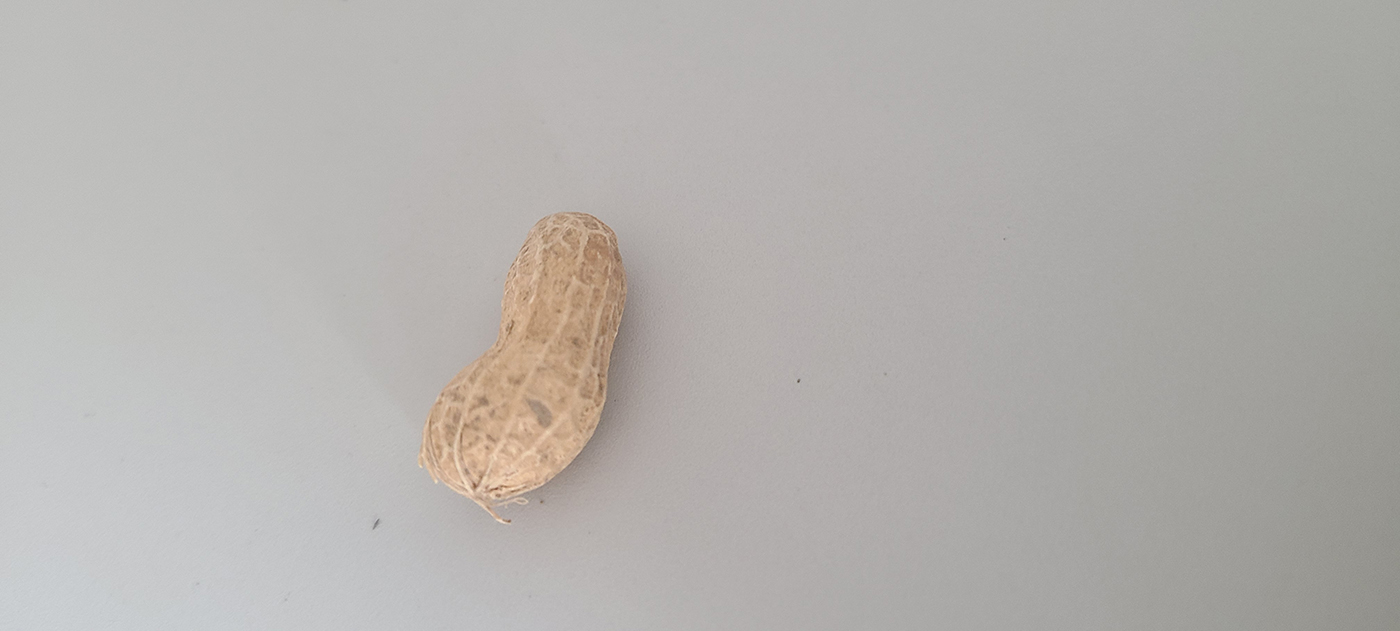h: (419, 207, 635, 501)
